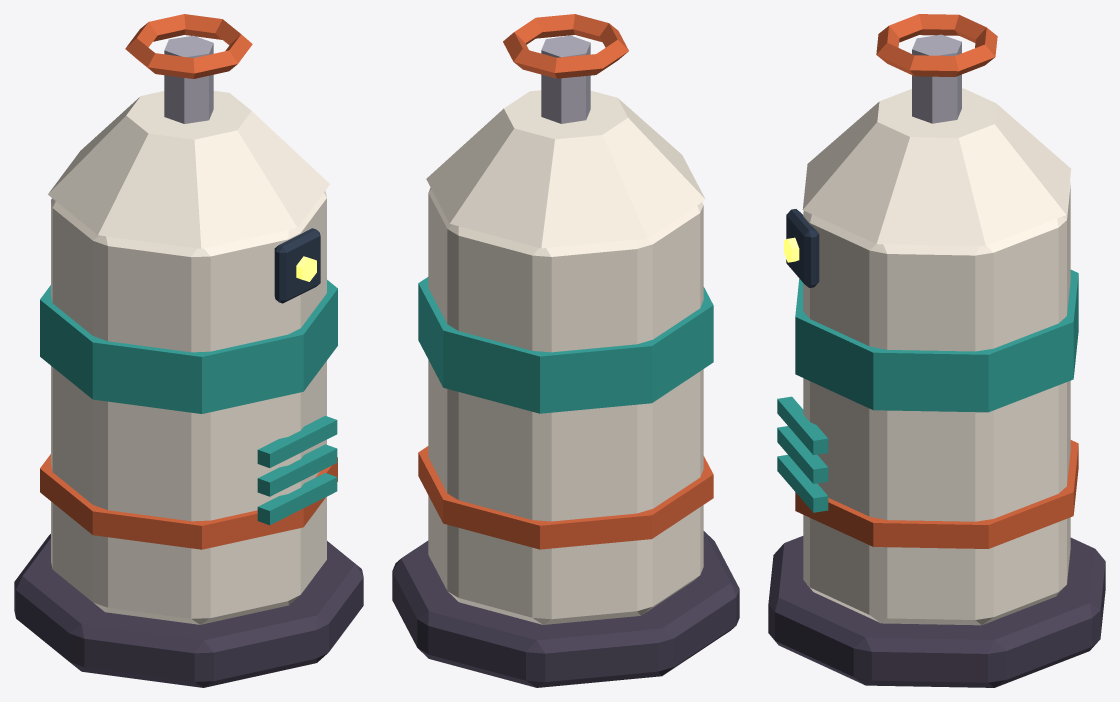
File: MOONSHIFT_ITM_Air_Component.glb
3 views of the same model, side by side, from view 1: azimuth 30°, elevation 25°; view 2: azimuth 150°, elevation 25°; view 3: azimuth 270°, elevation 25° (orthographic).
Parts seen in each view (by area): view 1: AirComp_Body, AirComp_Top, AirComp_Base, AirComp_Band, AirComp_Band2, AirComp_Wheel, AirComp_Valve, AirComp_Gauge, AirComp_Fin0, AirComp_Fin1, AirComp_Fin2; view 2: AirComp_Body, AirComp_Top, AirComp_Base, AirComp_Band, AirComp_Band2, AirComp_Wheel, AirComp_Valve; view 3: AirComp_Body, AirComp_Top, AirComp_Base, AirComp_Band, AirComp_Band2, AirComp_Wheel, AirComp_Valve, AirComp_Gauge, AirComp_Fin0, AirComp_Fin2, AirComp_Fin1.
Part boxes in pixels (x1,y1,x2,y2): AirComp_Body: (51,190,326,624); AirComp_Top: (48,90,329,248); AirComp_Base: (14,534,363,687); AirComp_Band: (40,280,337,413); AirComp_Band2: (40,454,337,549); AirComp_Wheel: (125,14,252,78); AirComp_Valve: (164,35,213,123); AirComp_Gauge: (274,228,320,303); AirComp_Fin0: (257,415,337,467); AirComp_Fin1: (257,444,337,496); AirComp_Fin2: (257,473,337,525); AirComp_Body: (428,188,703,624); AirComp_Top: (426,90,705,248); AirComp_Base: (392,531,739,687); AirComp_Band: (418,277,713,413); AirComp_Band2: (418,446,713,549); AirComp_Wheel: (503,14,628,78); AirComp_Valve: (541,35,590,123); AirComp_Body: (803,182,1070,625); AirComp_Top: (802,88,1071,246); AirComp_Base: (768,536,1105,687); AirComp_Band: (795,269,1078,412); AirComp_Band2: (795,440,1078,548); AirComp_Wheel: (876,14,997,76); AirComp_Valve: (912,34,961,123); AirComp_Gauge: (786,209,819,287); AirComp_Fin0: (777,396,828,455); AirComp_Fin2: (777,454,828,512); AirComp_Fin1: (777,426,828,483).
Bounding box in the file's own units: 0.6372 × 1.22 × 0.6372.
